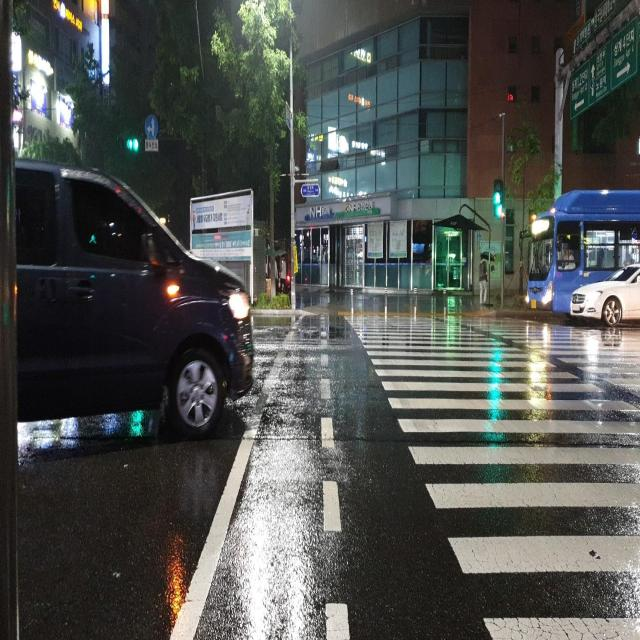초록불: (492, 178, 502, 224)
횡단보도: (338, 306, 638, 637)
